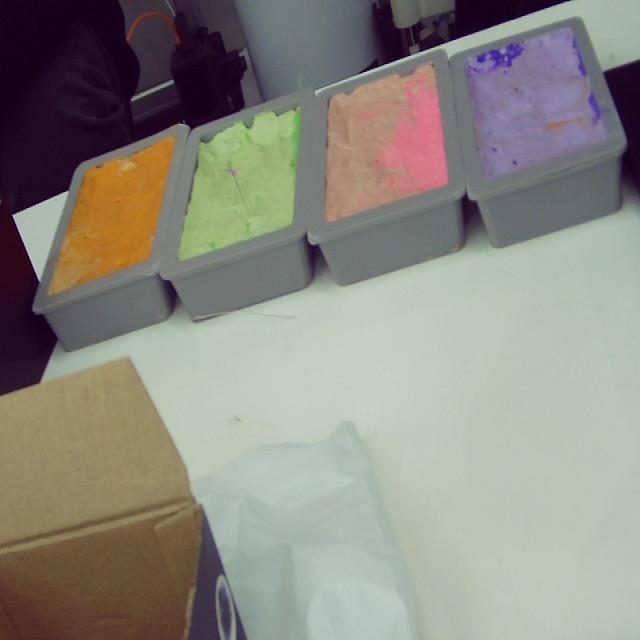block: (450, 14, 628, 247), (305, 47, 469, 284), (156, 91, 320, 321), (29, 126, 190, 350)
